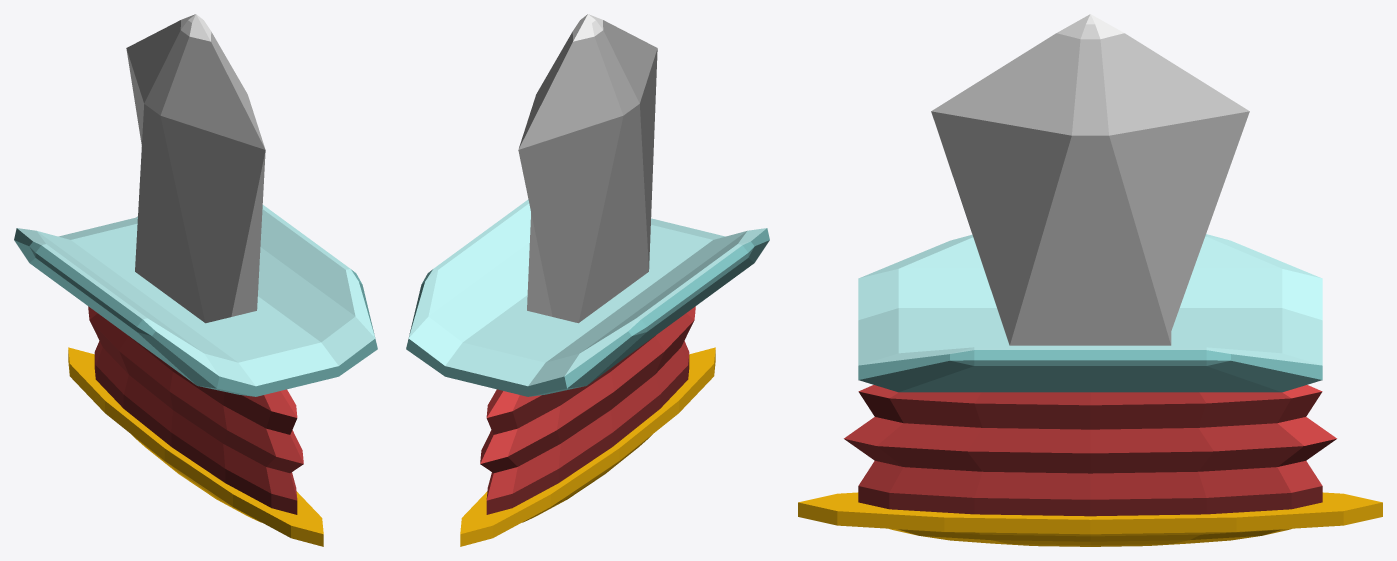
Rendered from sword.fbx.
3 renders of one model, left to right at view 1: azimuth 30°, elevation 25°; view 2: azimuth 150°, elevation 25°; view 3: azimuth 270°, elevation 25°, orthographic. The views are drawn at different scales.
Parts seen in each view (by area): view 1: Cylinder; view 2: Cylinder; view 3: Cylinder.
Boxes of the visible parts, bbox=[...] form: Cylinder: bbox=[14, 14, 377, 546]; Cylinder: bbox=[406, 14, 769, 546]; Cylinder: bbox=[798, 14, 1382, 546].
Size of the model in its own units: 49.58 by 100 by 100.
